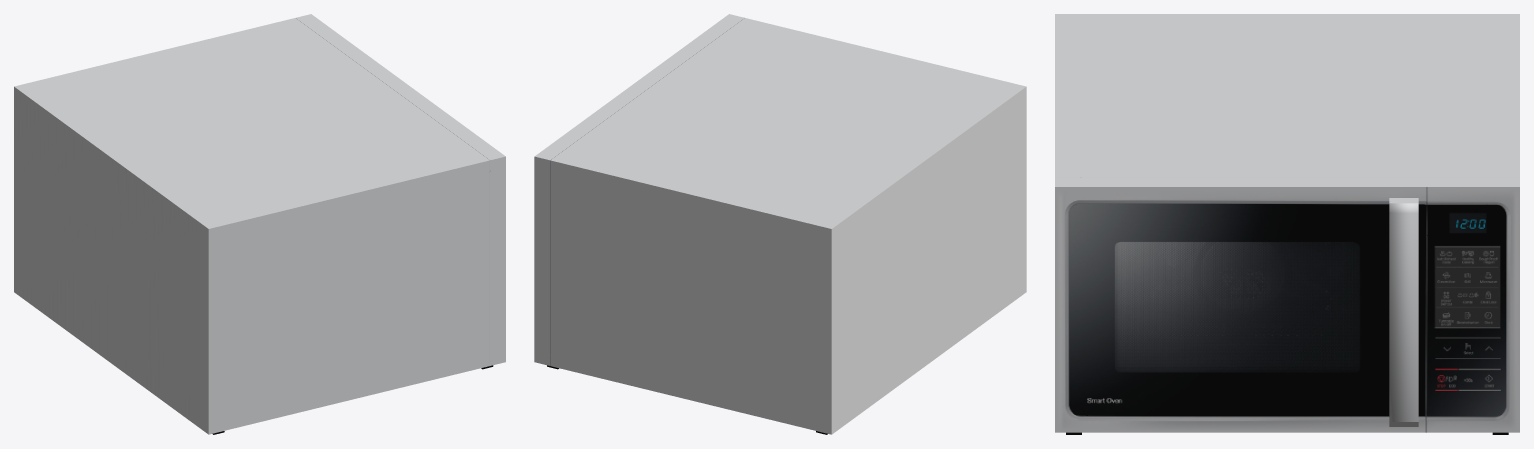
Rendered from 6D4AEFED-FC19-48F2-BA4F-EE9DB02B7FCC.dae.
3 views of the same model, side by side, from view 1: azimuth 30°, elevation 25°; view 2: azimuth 150°, elevation 25°; view 3: azimuth 270°, elevation 25° (orthographic). The views are drawn at different scales.
Visible parts, largest first — view 1: Microwave_oven_white; view 2: Microwave_oven_white; view 3: Microwave_oven_white.
Part boxes in pixels (left/top/right/bottom): Microwave_oven_white: left=14, top=14, right=505, bottom=434; Microwave_oven_white: left=534, top=14, right=1026, bottom=434; Microwave_oven_white: left=1055, top=14, right=1519, bottom=434.
Bounding box in the file's own units: 0.4751 × 0.517 × 0.31.
4 materials, 2 textured.
